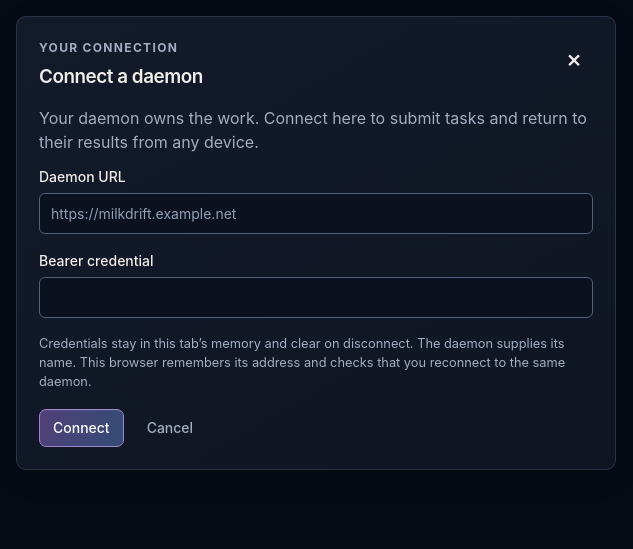
Test: clears the credential field when connecting and exposes a failed connection accessibly
Step 1. Type "https://studio.example" into the field labelled "Daemon URL" → (316, 213), box [39,193,593,234]
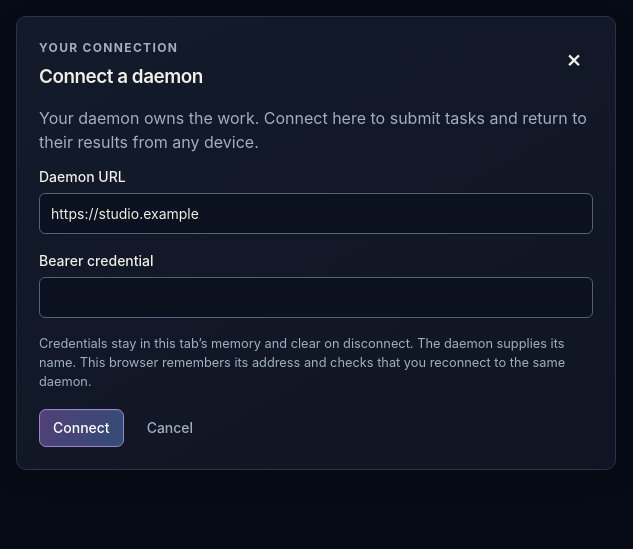
Step 2. Type "private-token" into the password field labelled "Bearer credential" → (316, 297), box [39,277,593,318]
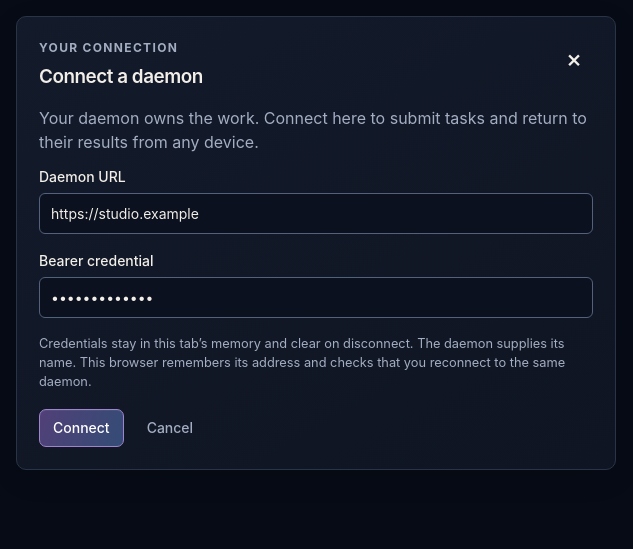
Step 3. Submit the form named "Connect", box [39,166,593,447]
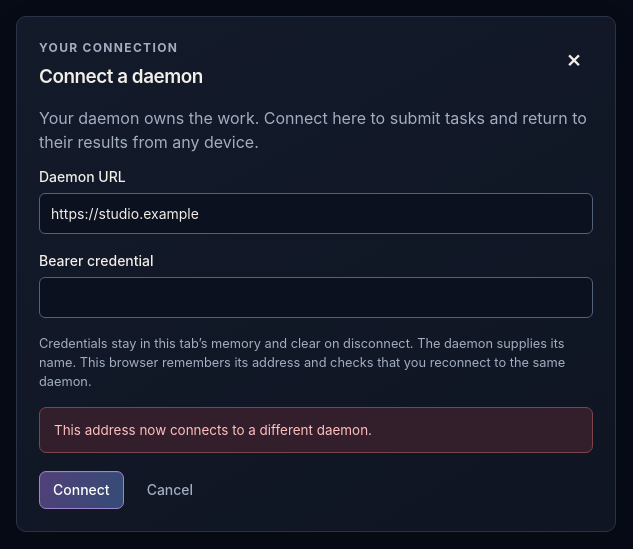
Check: the password field labelled "Bearer credential" is empty, box [39,277,593,318]
Check: the message reads "This address now connects to a different daemon.", box [54,422,372,438]
